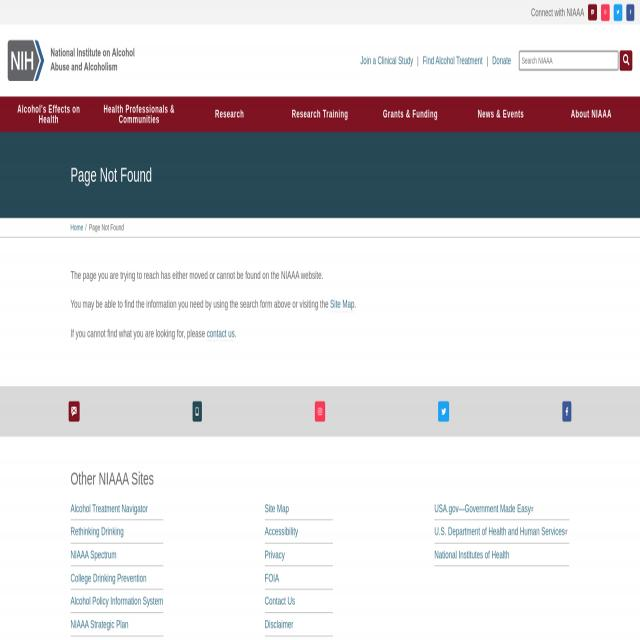button: (8, 40, 141, 81), (546, 96, 640, 132), (365, 95, 455, 132), (184, 96, 275, 132), (456, 96, 546, 132), (94, 96, 184, 132), (275, 96, 365, 132), (4, 96, 94, 132), (620, 50, 632, 72), (68, 401, 80, 421), (438, 401, 449, 422), (315, 401, 325, 423), (562, 401, 572, 422), (193, 401, 202, 422), (601, 4, 610, 21), (588, 4, 597, 20), (626, 4, 634, 21), (614, 4, 622, 21)
field: (519, 51, 618, 70)
